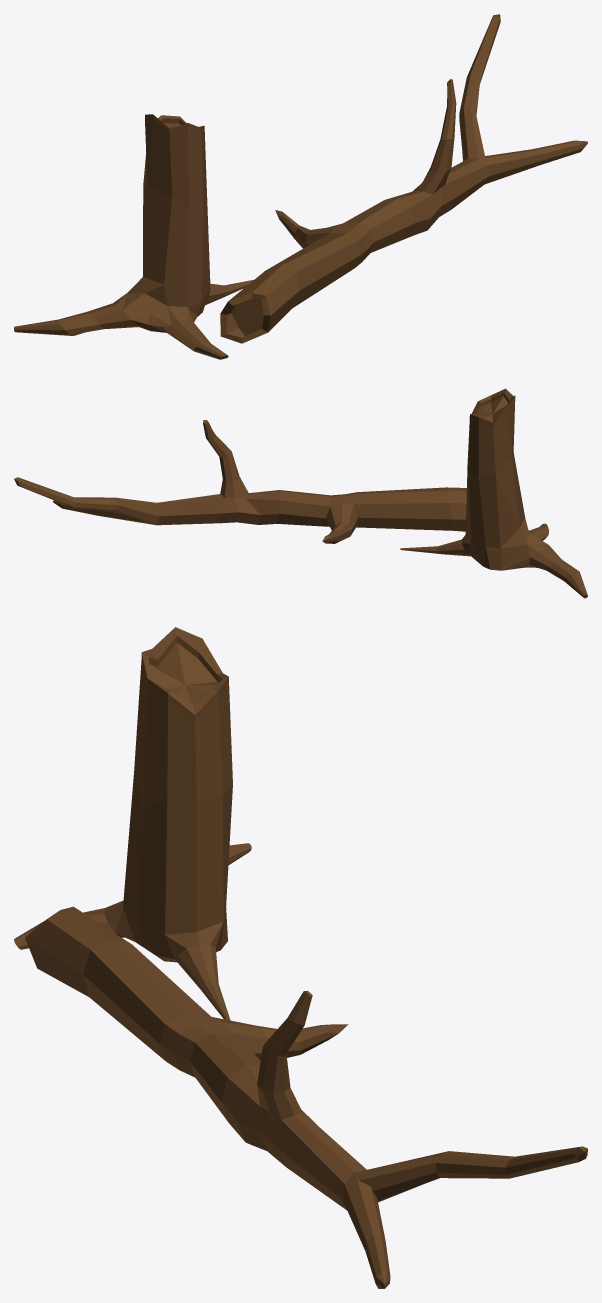
The model's file is Broken.fbx.
3 renders of one model, top to bottom at view 1: azimuth 30°, elevation 25°; view 2: azimuth 150°, elevation 25°; view 3: azimuth 270°, elevation 25°, orthographic. The views are drawn at different scales.
Visible parts, largest first — view 1: LowPoly Tree .042; view 2: LowPoly Tree .042; view 3: LowPoly Tree .042.
Boxes of the visible parts, <box> form: LowPoly Tree .042: <box>14,14,587,359</box>; LowPoly Tree .042: <box>14,388,587,598</box>; LowPoly Tree .042: <box>14,627,587,1288</box>.
Bounding box in the file's own units: 661 × 1209 × 393.
